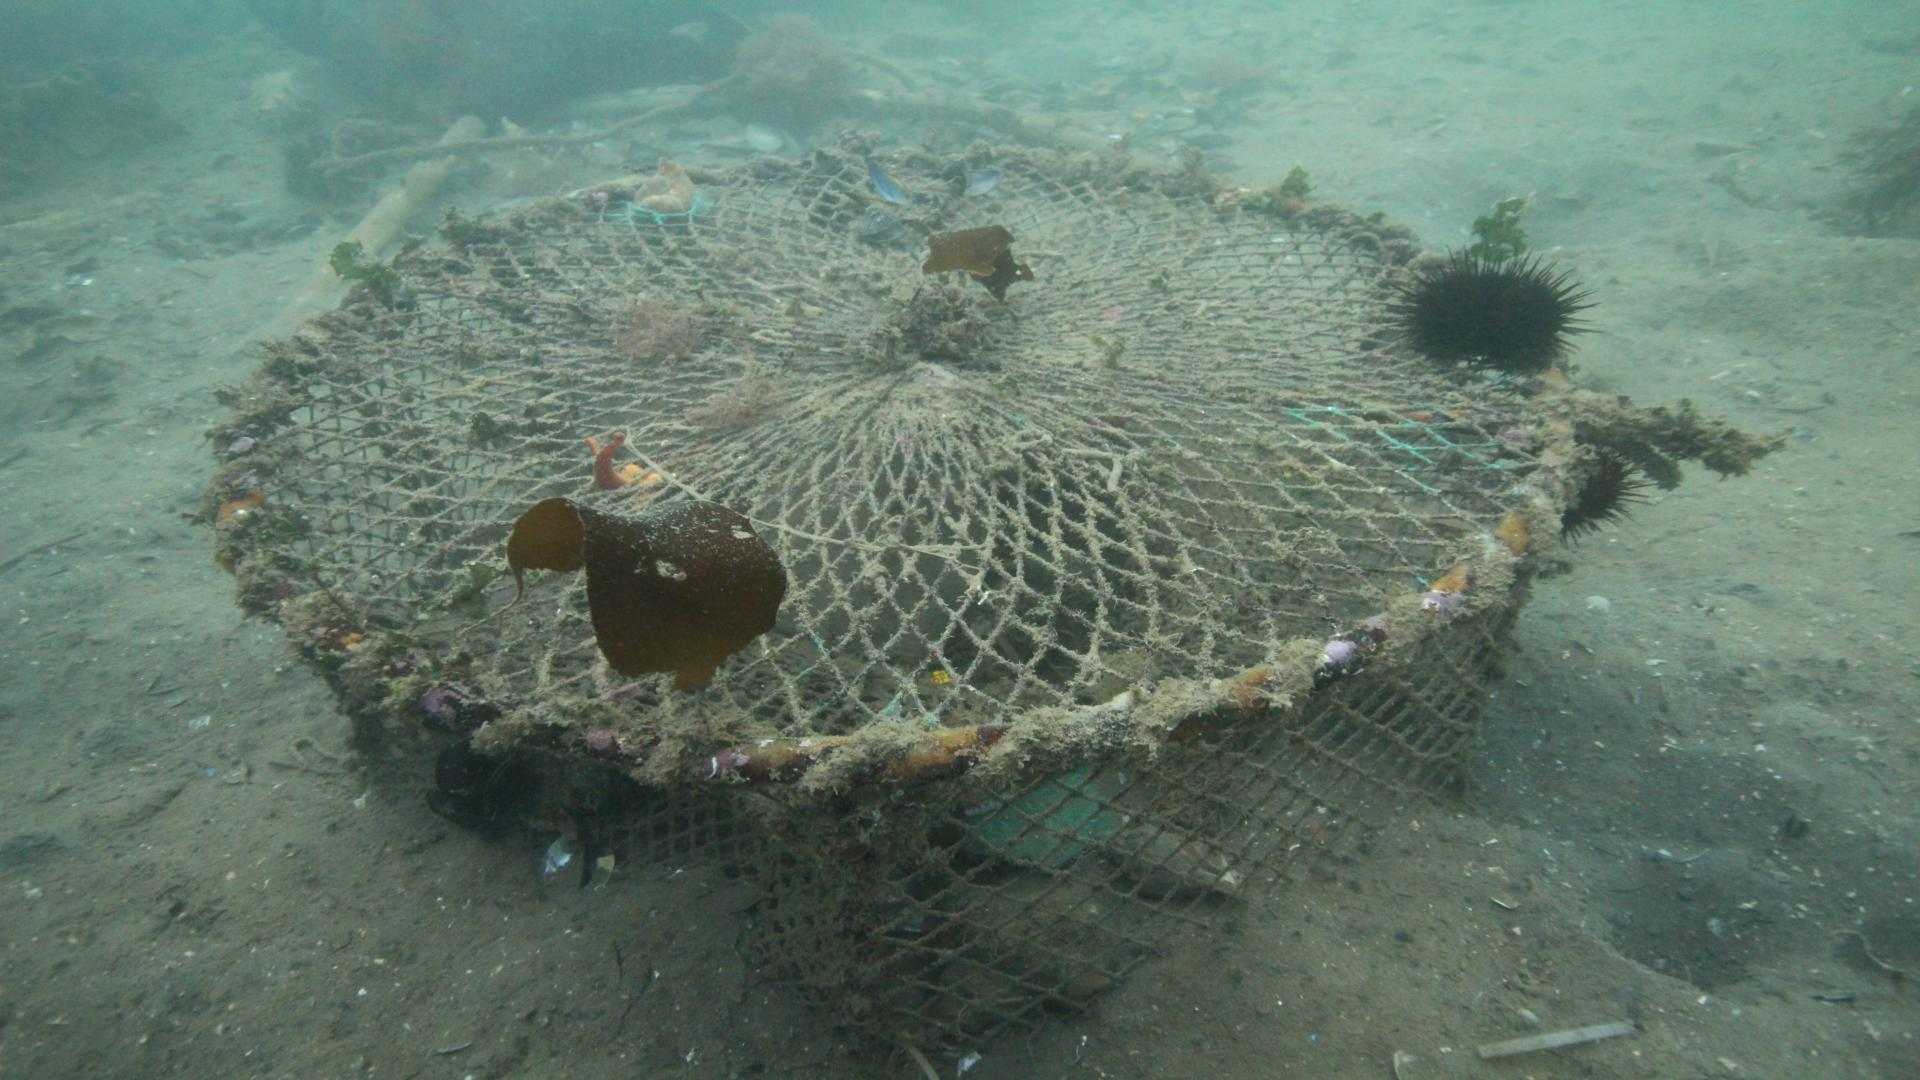circular fish trap: (211, 166, 1576, 1043)
